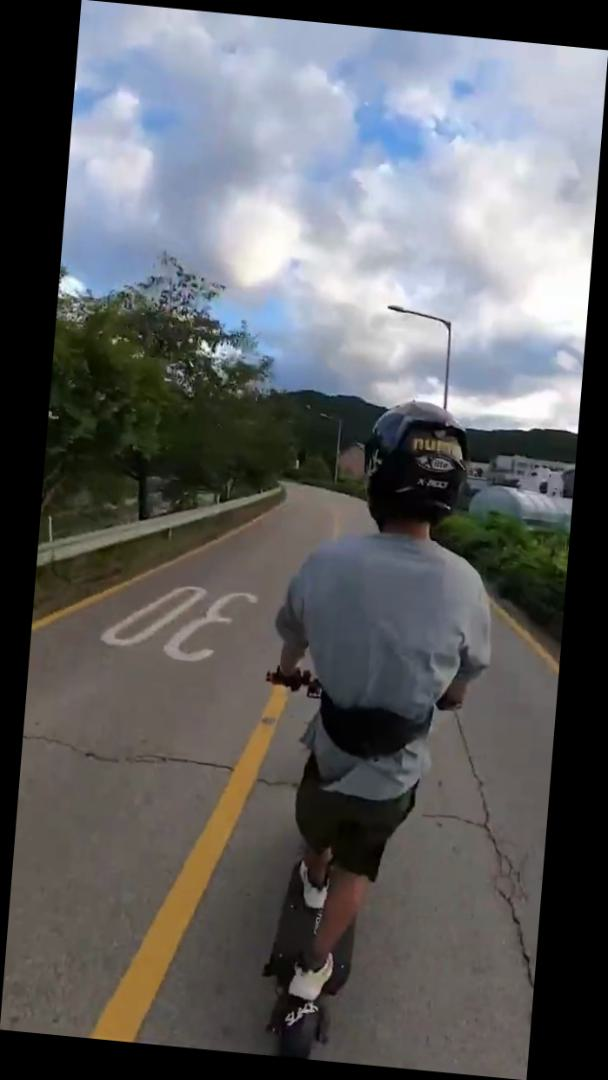helmet: (228, 387, 513, 1074)
